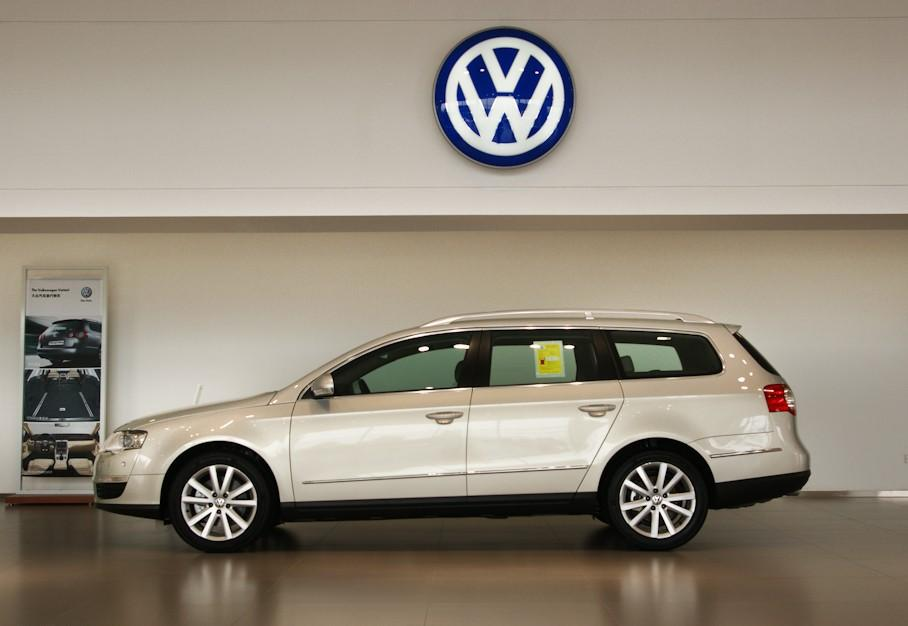Wagon: (91, 315, 813, 553)
